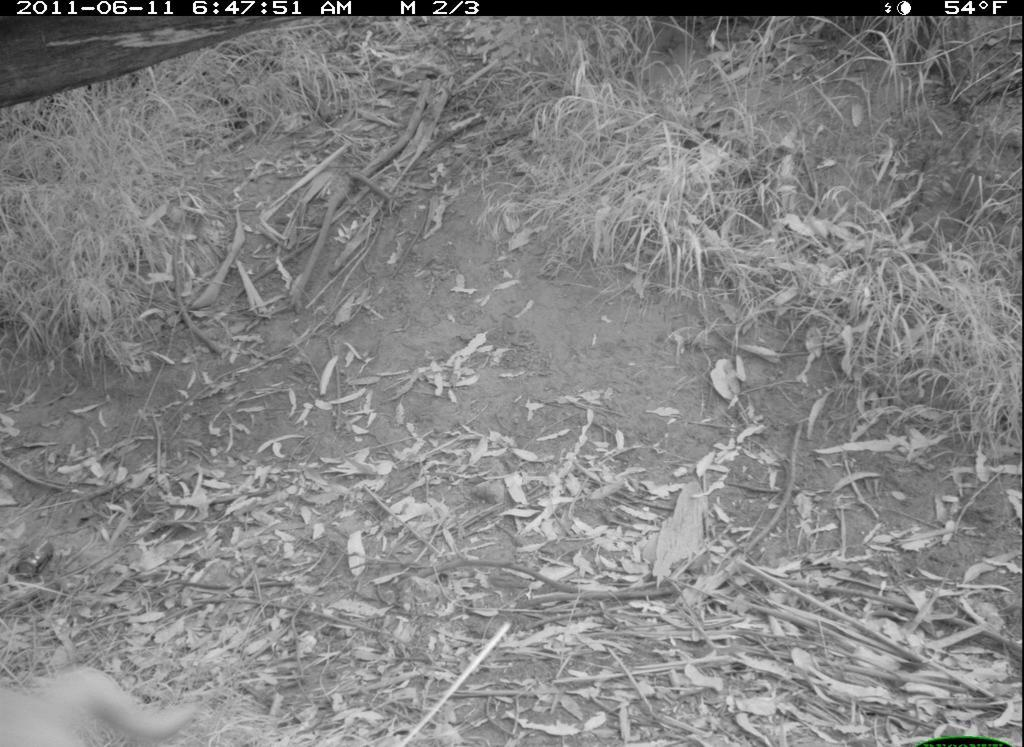dog: (4, 626, 208, 747)
